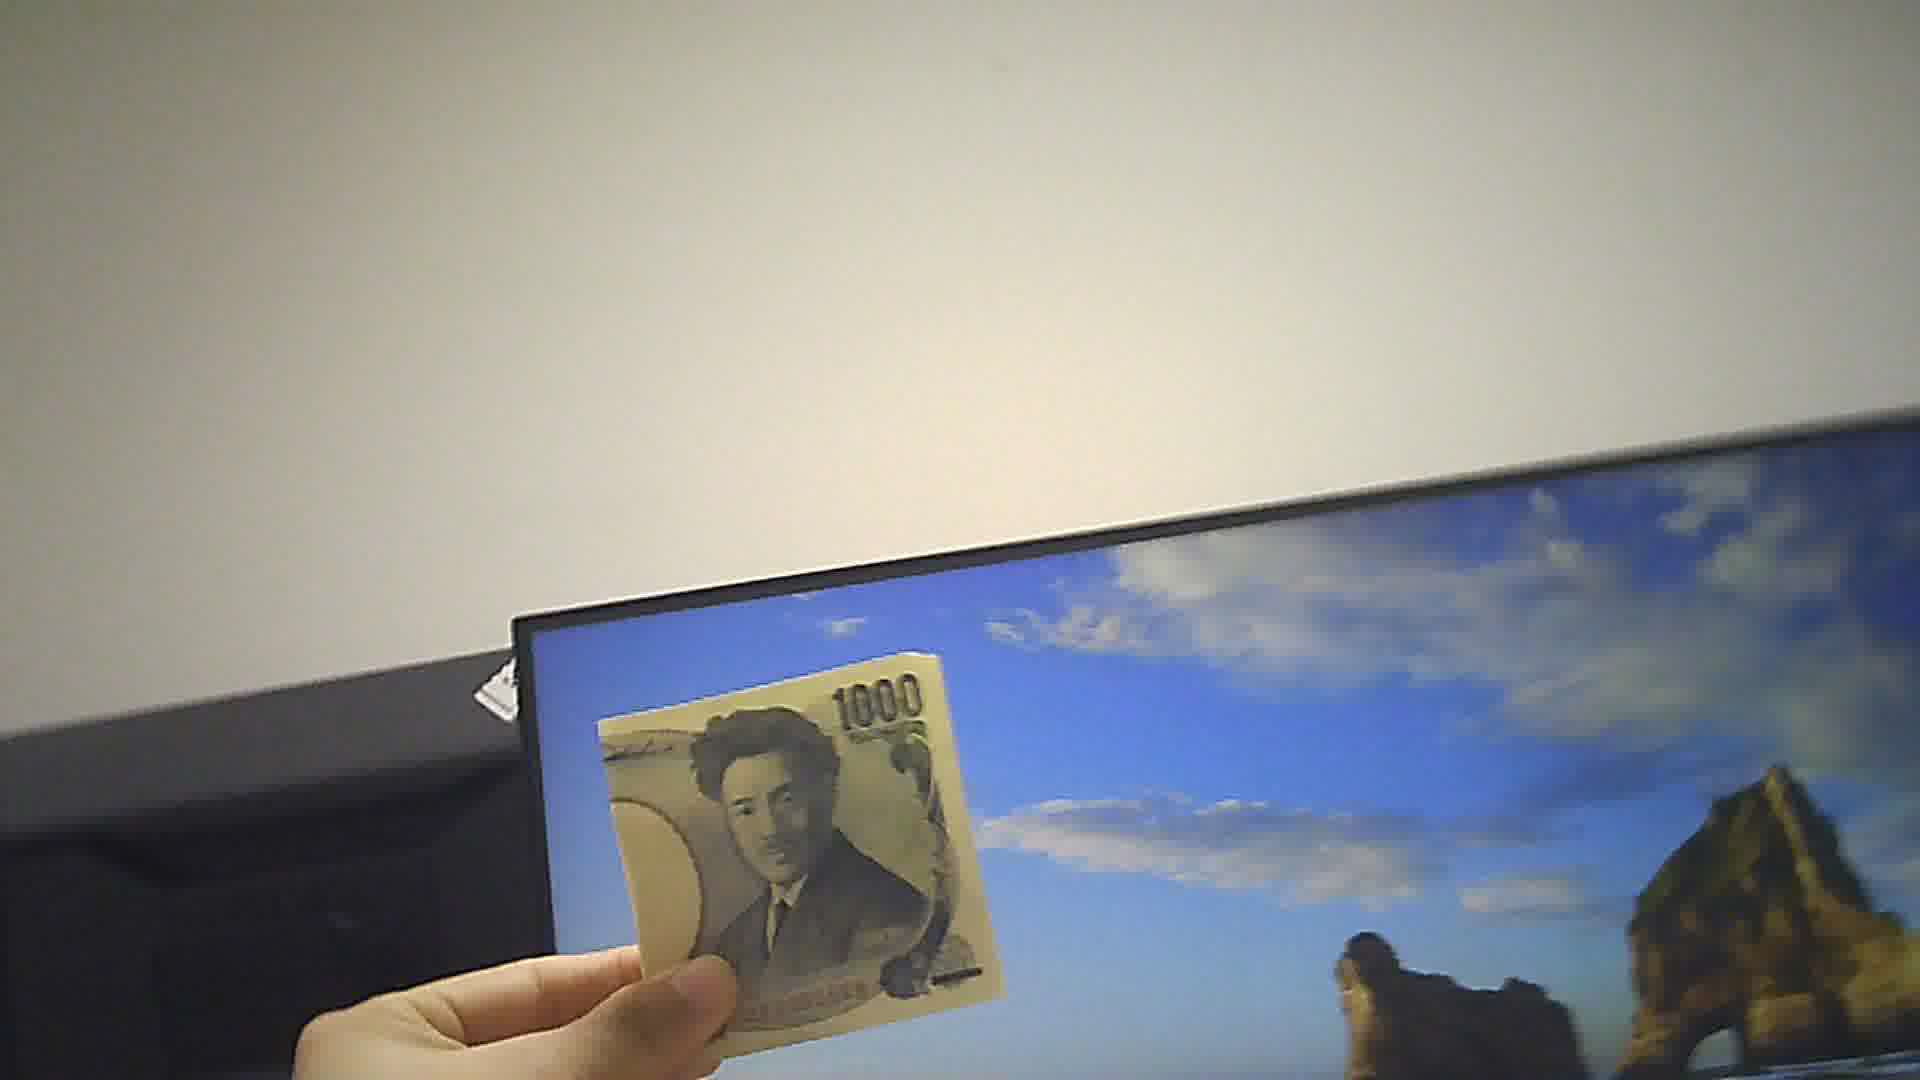1,000 Yen: (597, 649, 1005, 1048)
